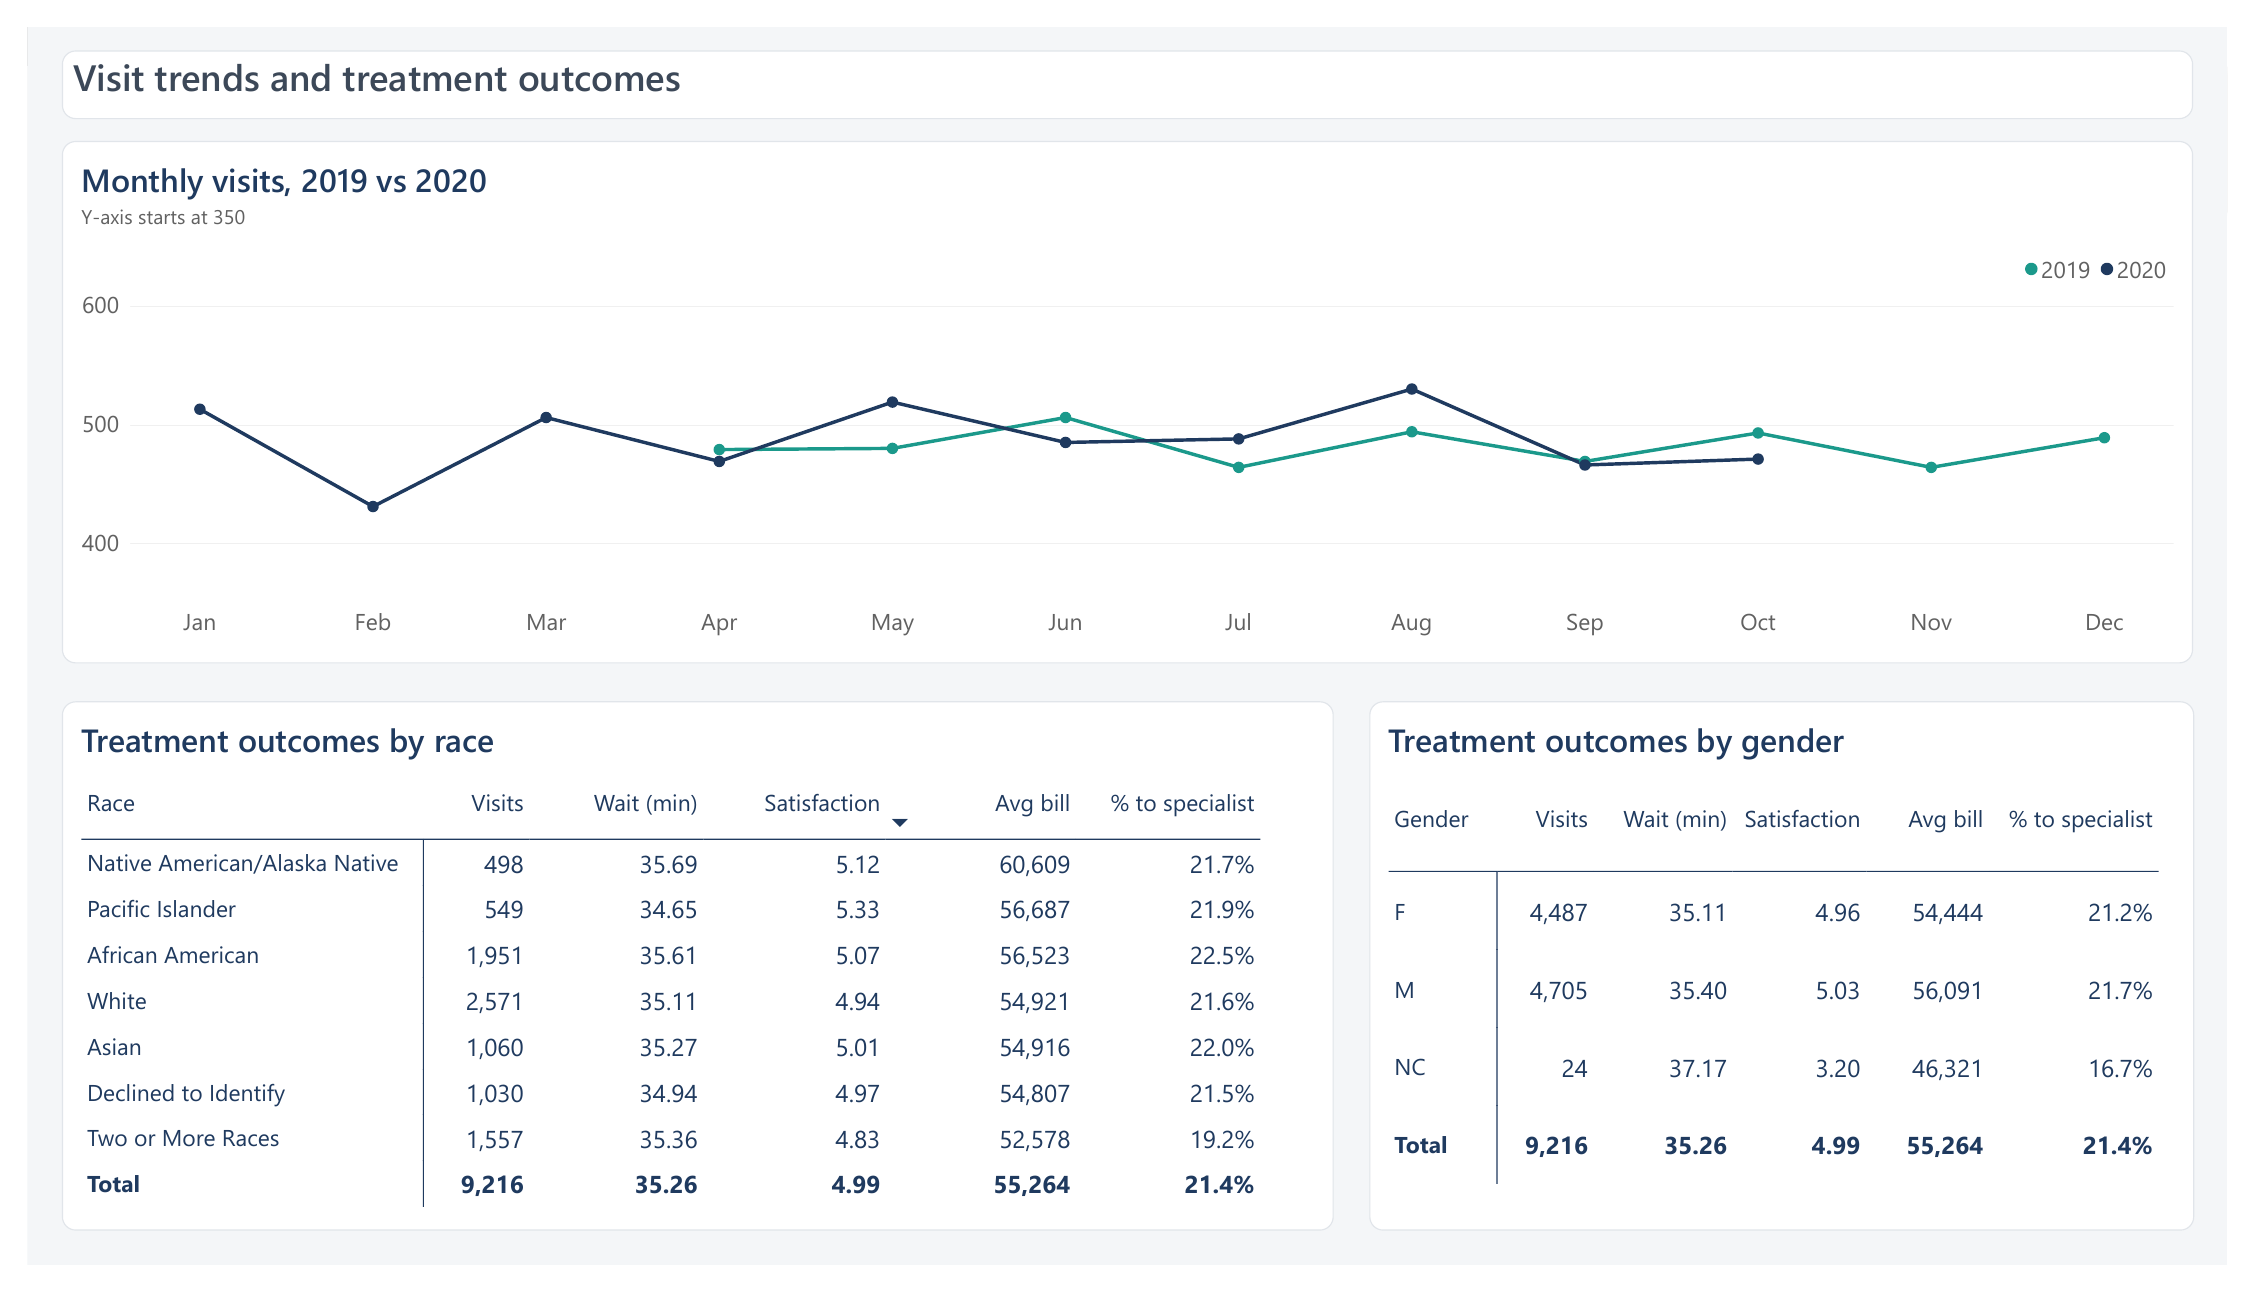

What the dashboard file says about the page in this screenshot:
{"tool":"powerbi","page":{"name":"Trends and Outcomes","canvas":[1920,1080],"ordinal":6},"visuals":[{"type":"textbox","box":[30,20,1860,60],"z":0},{"type":"lineChart","title":"Monthly visits, 2019 vs 2020","fields":{"Category":["date_table.month_name"],"Series":["date_table.year"],"Y":["hospital_data.total_visits"]},"box":[30.2,99.4,1859.8,455.8],"z":1000},{"type":"pivotTable","title":"Treatment outcomes by race","fields":{"Rows":["hospital_data.patient_race"],"Values":["hospital_data.total_visits","hospital_data.avg_wait_time","hospital_data.avg_satisfaction","hospital_data.avg_bill","hospital_data.specialist_share"]},"box":[30.2,587.5,1110.2,462.2],"z":2000},{"type":"pivotTable","title":"Treatment outcomes by gender","fields":{"Rows":["hospital_data.patient_gender"],"Values":["hospital_data.total_visits","hospital_data.avg_wait_time","hospital_data.avg_satisfaction","hospital_data.avg_bill","hospital_data.specialist_share"]},"box":[1170.7,587.5,720,462.2],"z":3000}]}

Visuals, with their boxes in screenshot pixels (x1, y1, x2, y2), scaled from the page's 1920x1080 canvas onto the 2255x1293 screenshot:
textbox: 35/24/2220/96
"Monthly visits, 2019 vs 2020" lineChart: 35/119/2220/665
"Treatment outcomes by race" pivotTable: 35/703/1339/1257
"Treatment outcomes by gender" pivotTable: 1375/703/2221/1257
